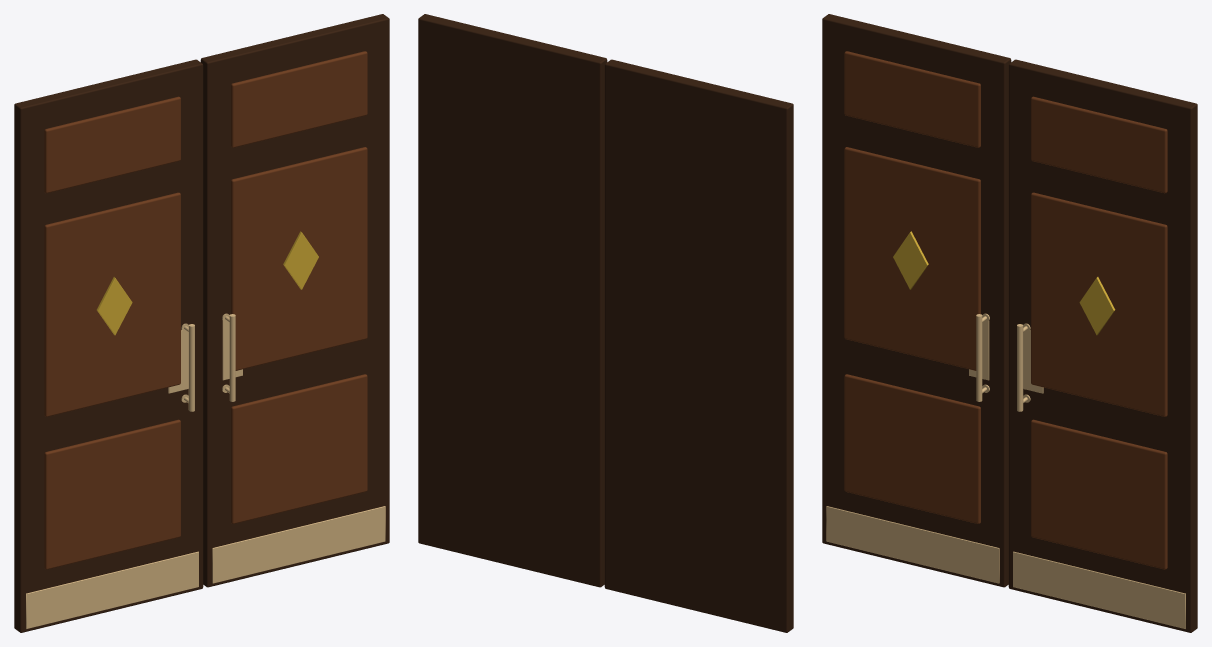
The model's file is door_leaves_22.glb.
The picture shows the model from 3 angles, left to right: view 1: azimuth 30°, elevation 25°; view 2: azimuth 150°, elevation 25°; view 3: azimuth 330°, elevation 25°; orthographic projection.
Visible parts, largest first — view 1: doorleaves22_wood, doorleaves22_woodDark, doorleaves22_brass, doorleaves22_gold; view 2: doorleaves22_woodDark; view 3: doorleaves22_wood, doorleaves22_woodDark, doorleaves22_brass, doorleaves22_gold.
Part boxes in pixels (x1,y1,x2,y2): doorleaves22_wood: (44, 51, 367, 569); doorleaves22_woodDark: (14, 14, 389, 632); doorleaves22_brass: (26, 313, 385, 628); doorleaves22_gold: (96, 231, 318, 335); doorleaves22_woodDark: (418, 14, 793, 632); doorleaves22_wood: (844, 51, 1167, 569); doorleaves22_woodDark: (822, 14, 1197, 632); doorleaves22_brass: (826, 313, 1185, 628); doorleaves22_gold: (893, 231, 1115, 335).
Bounding box in the file's own units: 2.18 × 2.96 × 0.156.
